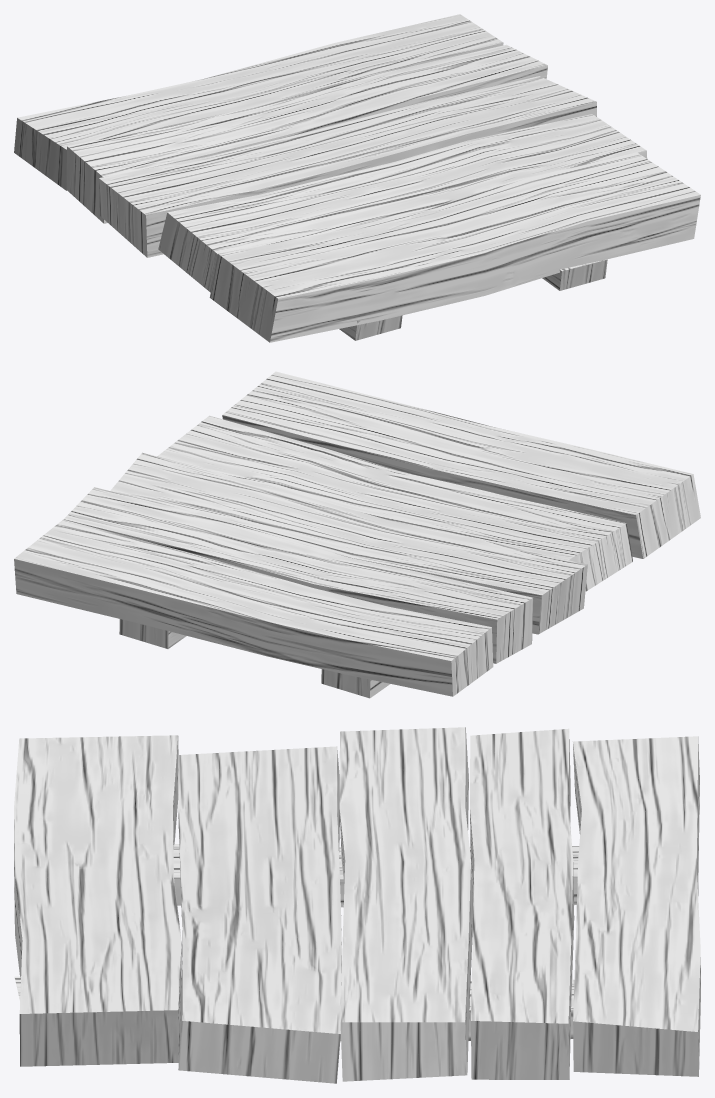
File: ARC0110024.fbx
The picture shows the model from 3 angles, top to bottom: view 1: azimuth 30°, elevation 25°; view 2: azimuth 150°, elevation 25°; view 3: azimuth 270°, elevation 25°; orthographic projection. The views are drawn at different scales.
Visible parts, largest first — view 1: smARC0110024; view 2: smARC0110024; view 3: smARC0110024.
Boxes of the visible parts, left/top/right/bottom form: smARC0110024: left=14, top=14, right=700, bottom=342; smARC0110024: left=14, top=371, right=700, bottom=698; smARC0110024: left=14, top=727, right=700, bottom=1083.
Bounding box in the file's own units: 127 × 18.54 × 124.
Materials: 1 (1 with a texture image).
